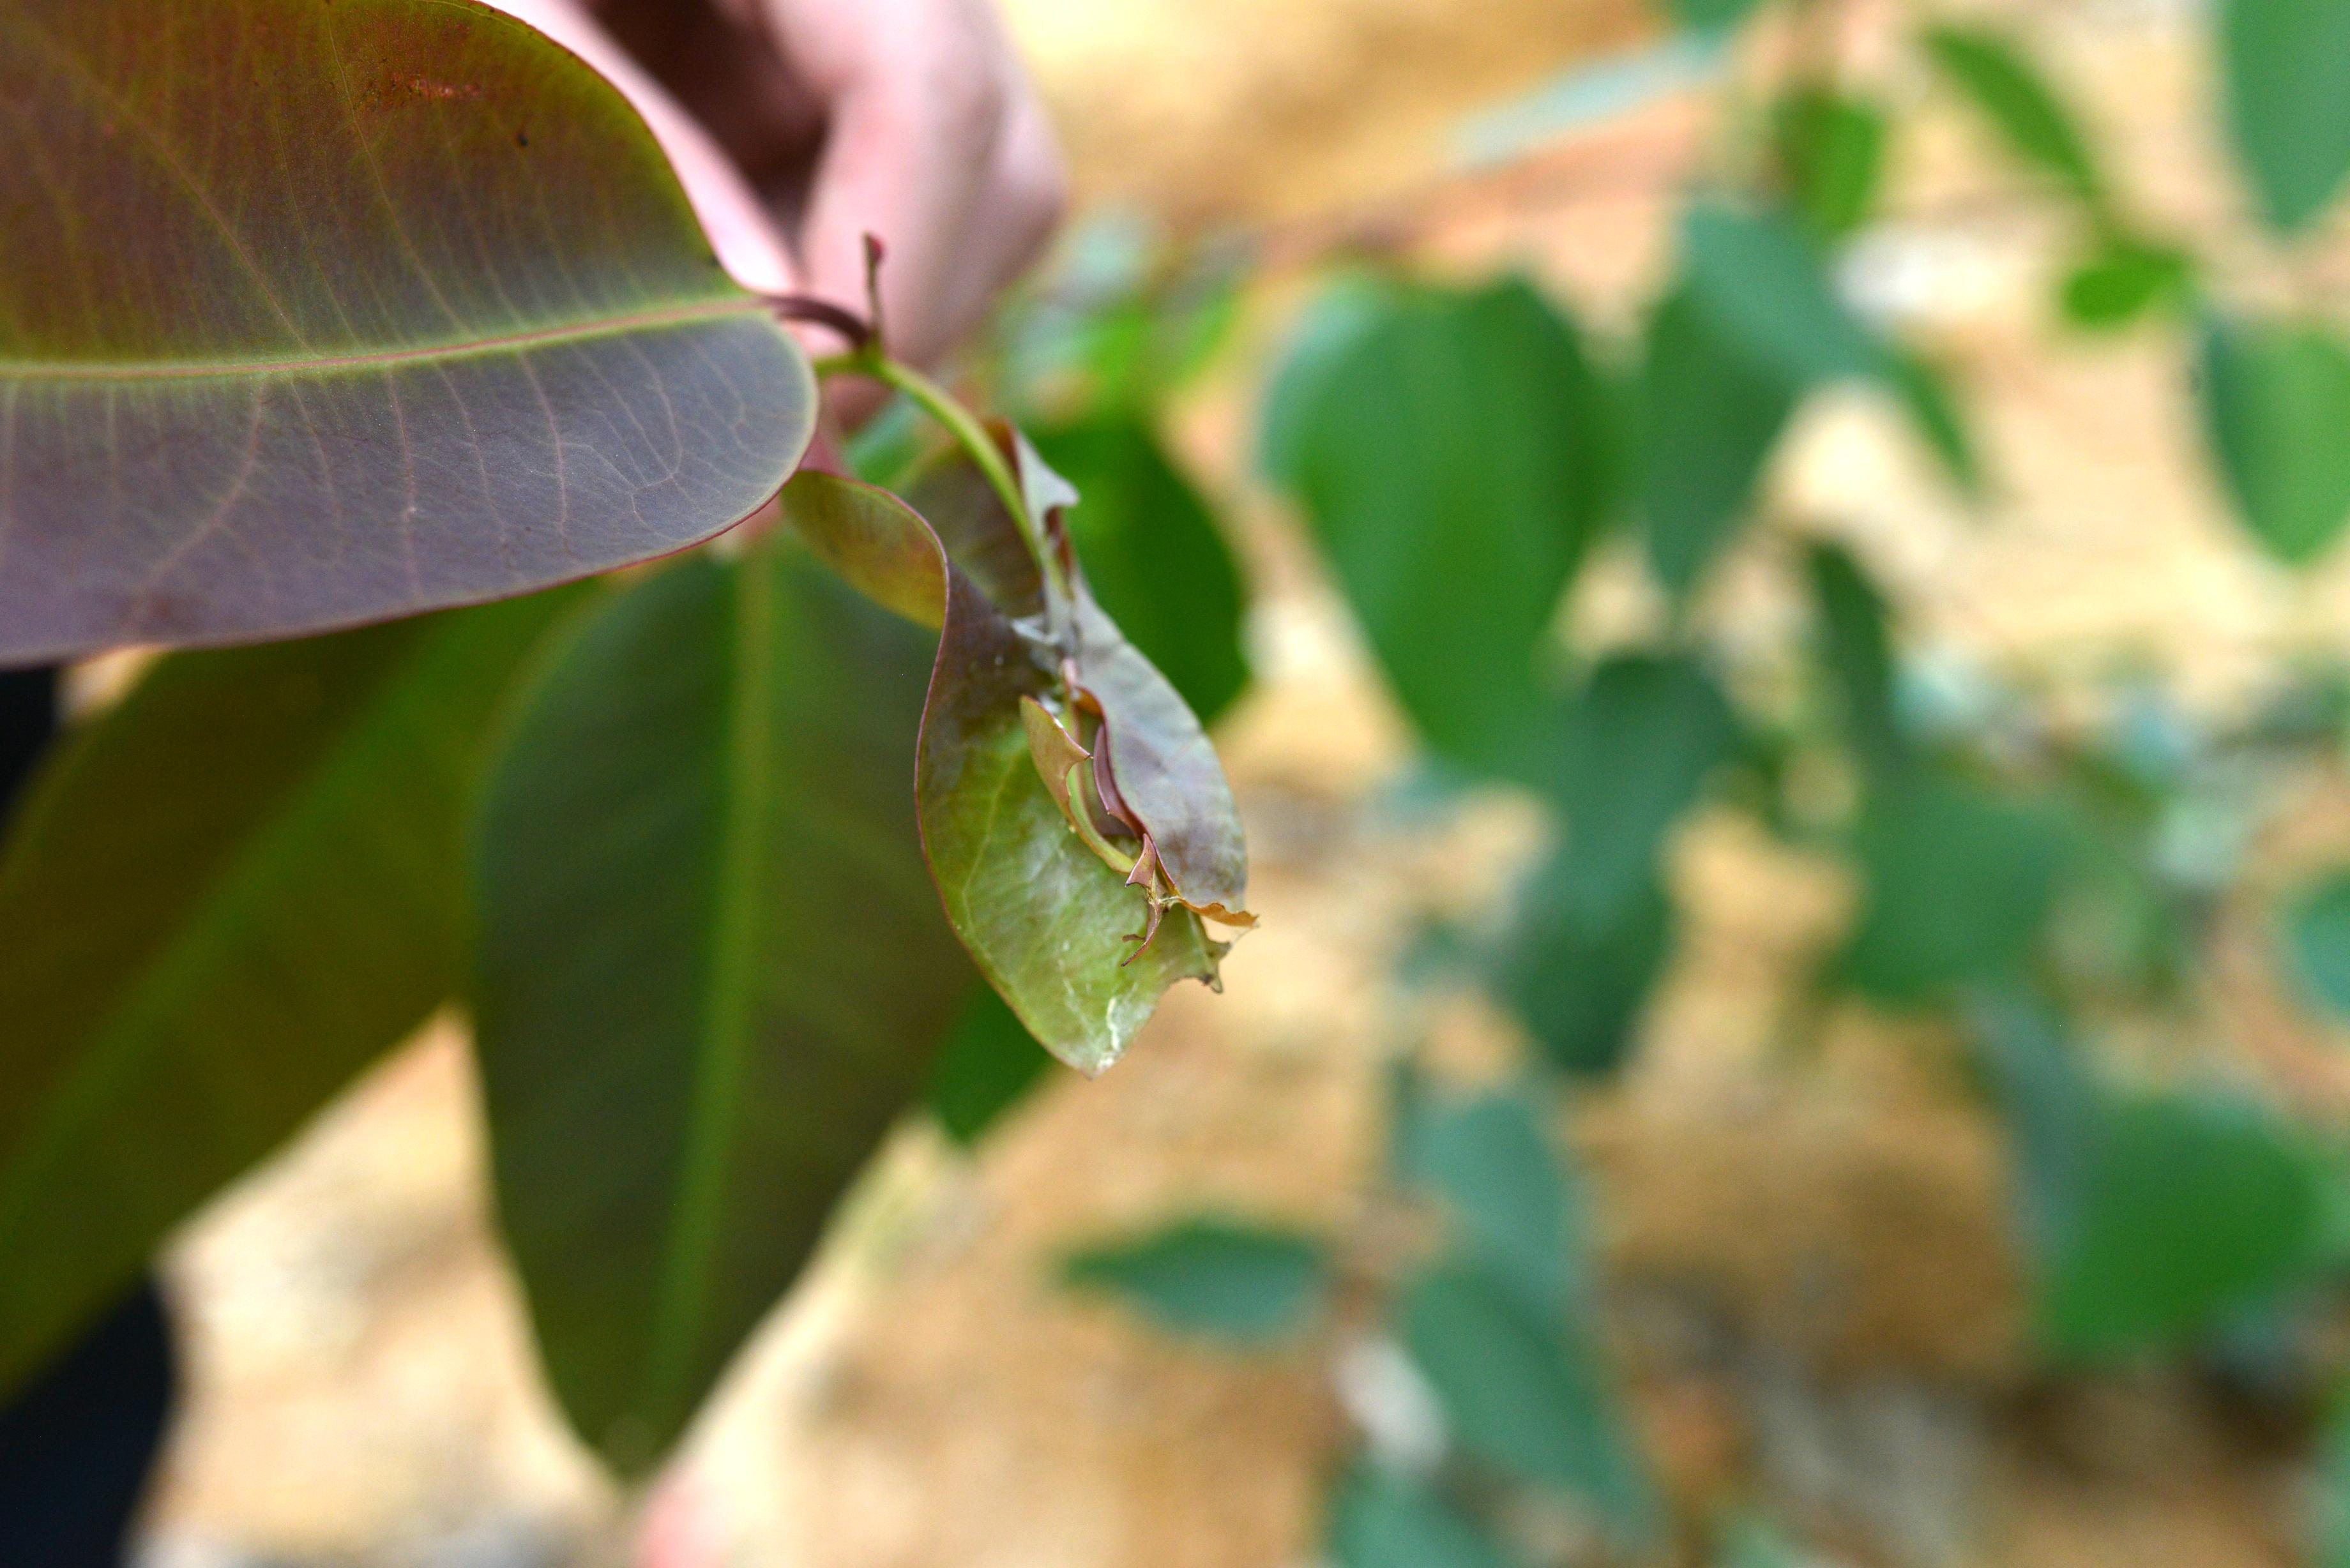Leaf Roller - Leaf: (768, 369, 1277, 1108)
